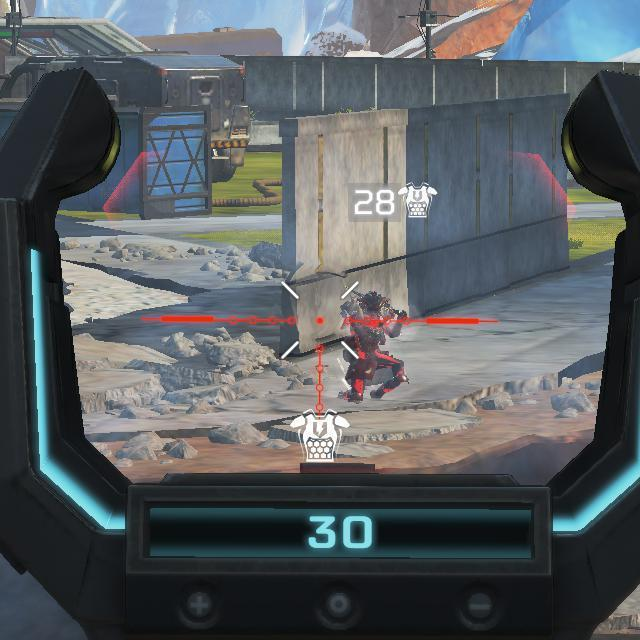avatar: (336, 288, 409, 405)
